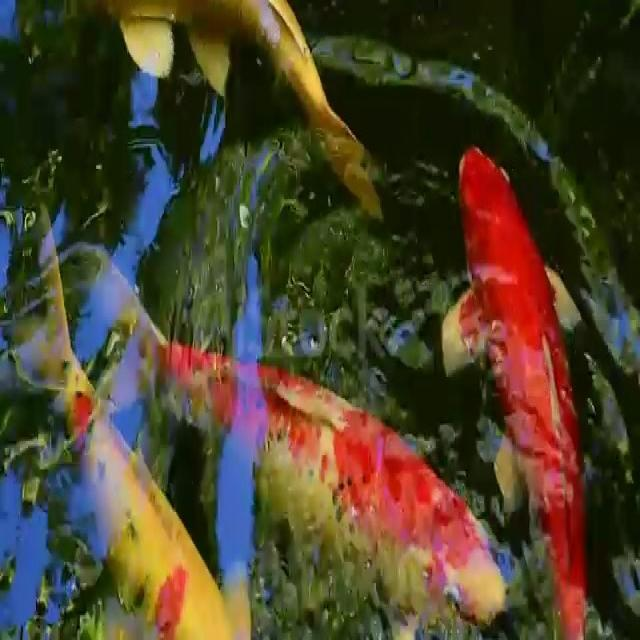fish: (146, 302, 508, 640), (12, 242, 264, 639), (432, 135, 599, 640), (123, 0, 390, 232)
